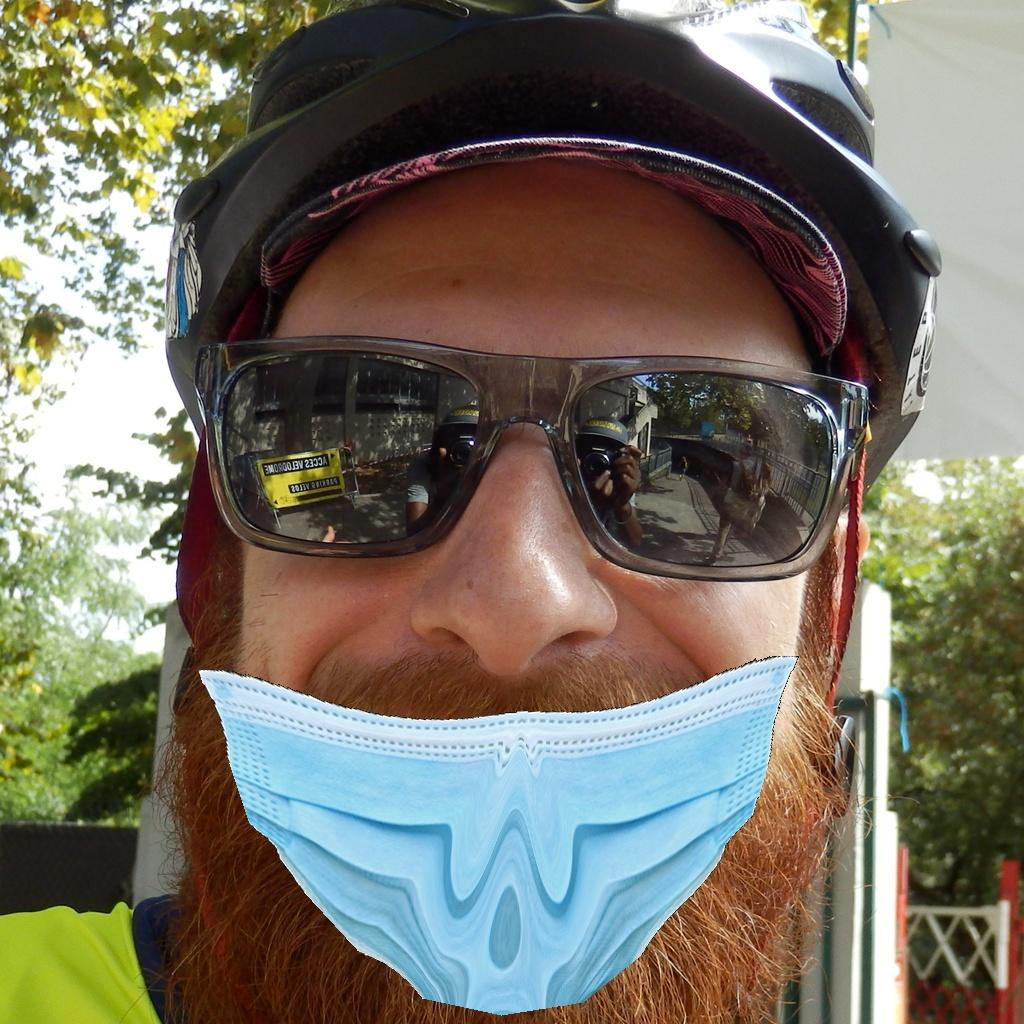Máscara Incorreta: (229, 235, 800, 987)
